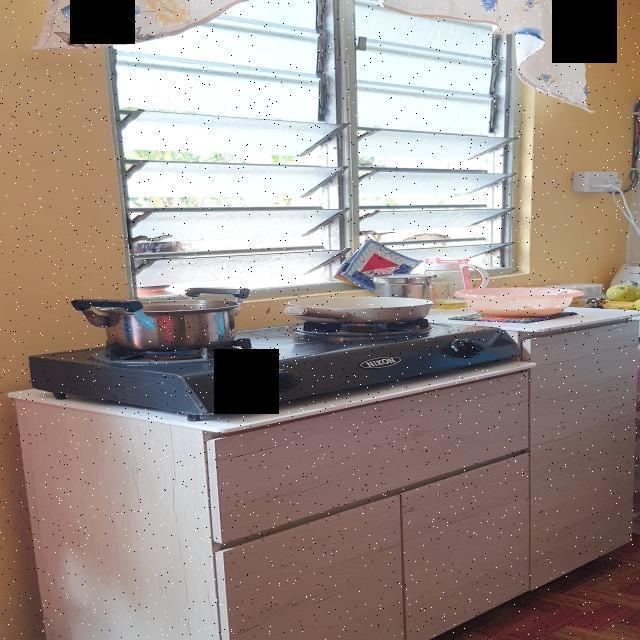Pan: (74, 293, 256, 350), (450, 278, 583, 315), (282, 297, 433, 319)
